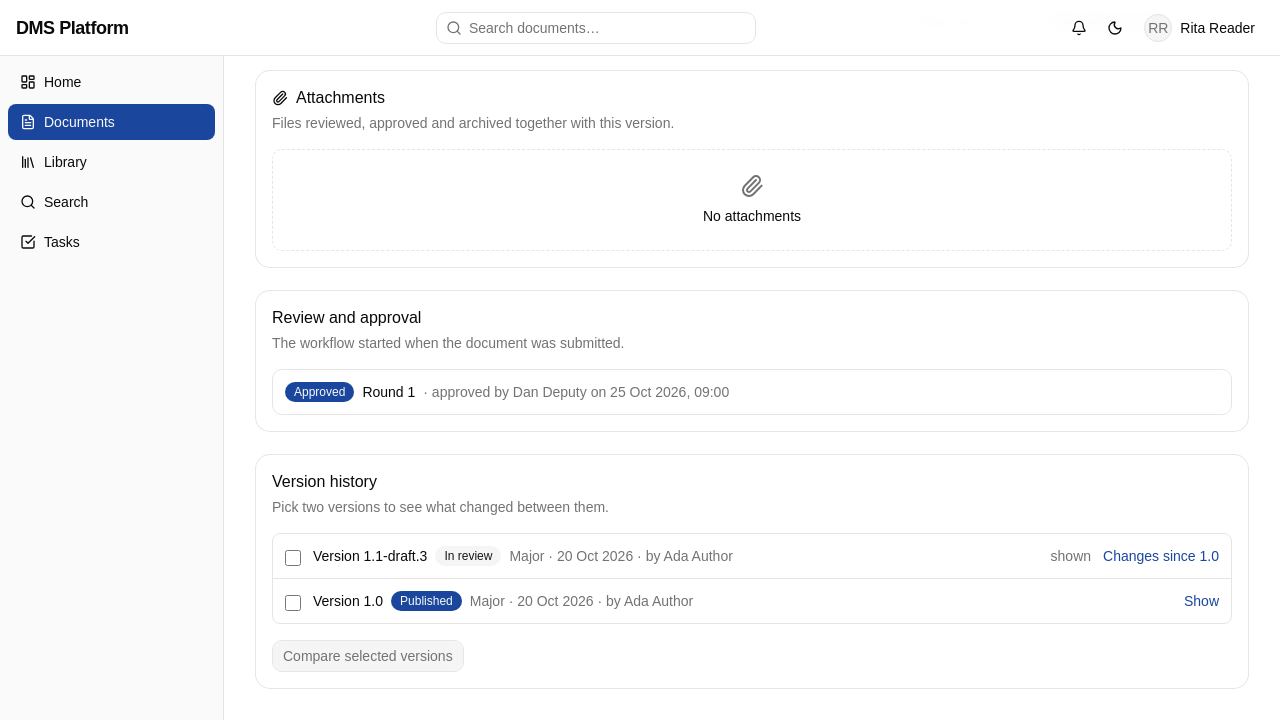
Document page: a version in review › opens the published version from the version history
The image size is (1280, 720).
(page scrolled)
Click the link with aria-label "Show version 1.0" at [1202, 601], box [1184,591,1219,611]
(page scrolled)
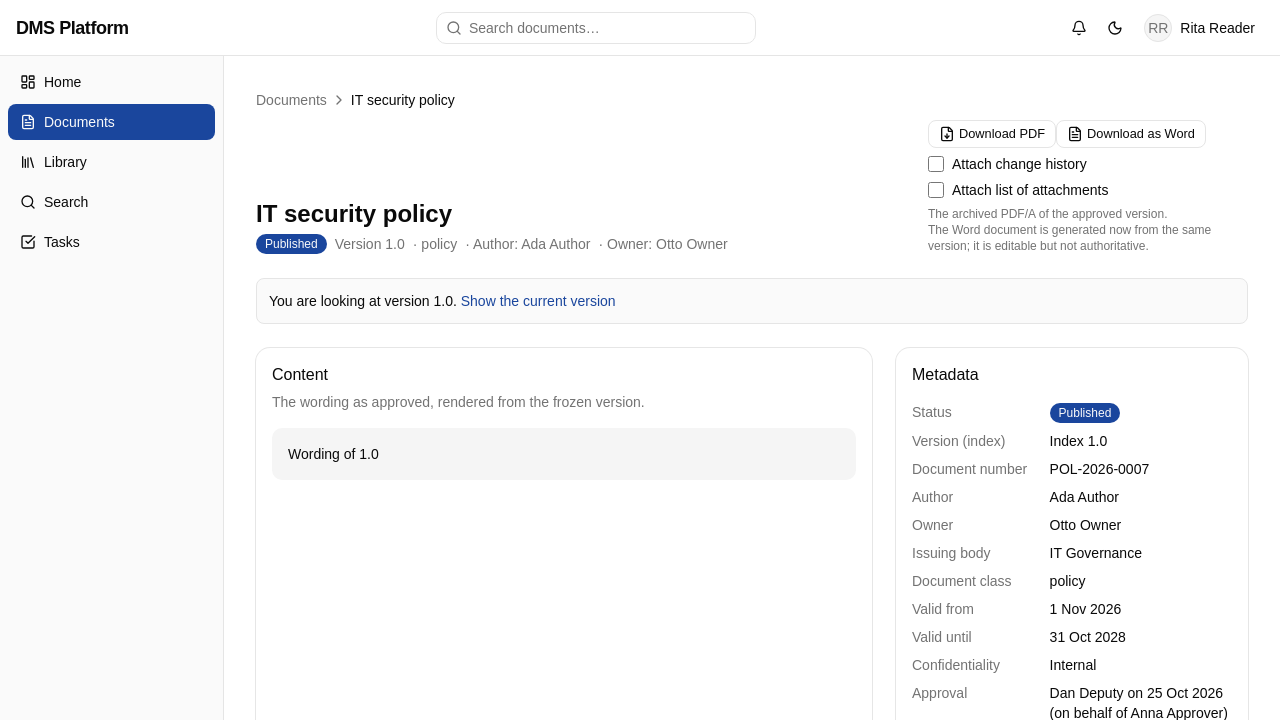
expect the text "You are looking at version 1.0." is shown: met, box [269,293,457,309]
expect the element with test id "version-content" reads "Wording of 1.0": met, box [288,446,379,462]
expect the text "Published" next to "Status" is shown: met, box [1059,406,1111,420]
Click the link "Show the current version" at [538, 301], box [461,293,616,309]
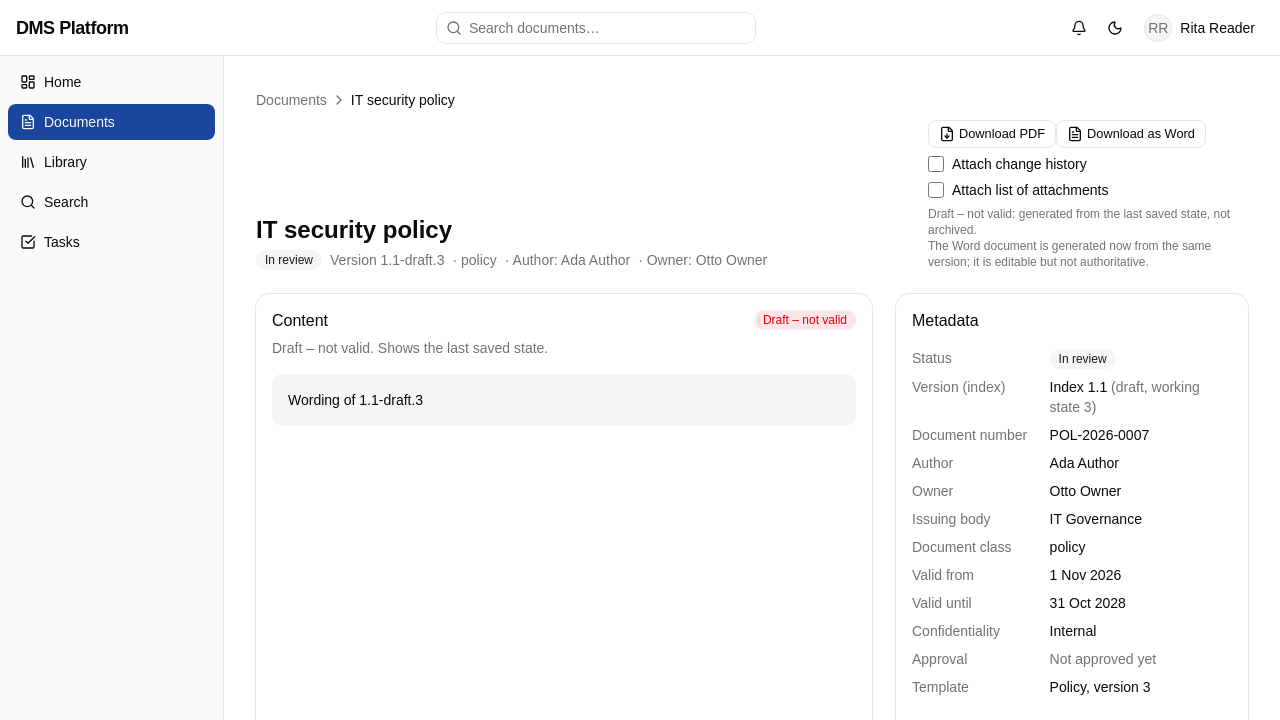
expect the element with test id "version-content" reads "Wording of 1.1-draft.3": met, box [288,392,423,408]
